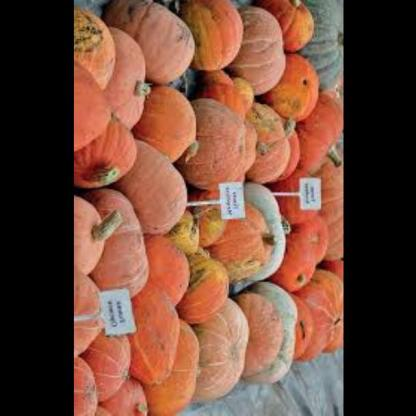pumpkin: (74, 0, 343, 416)
